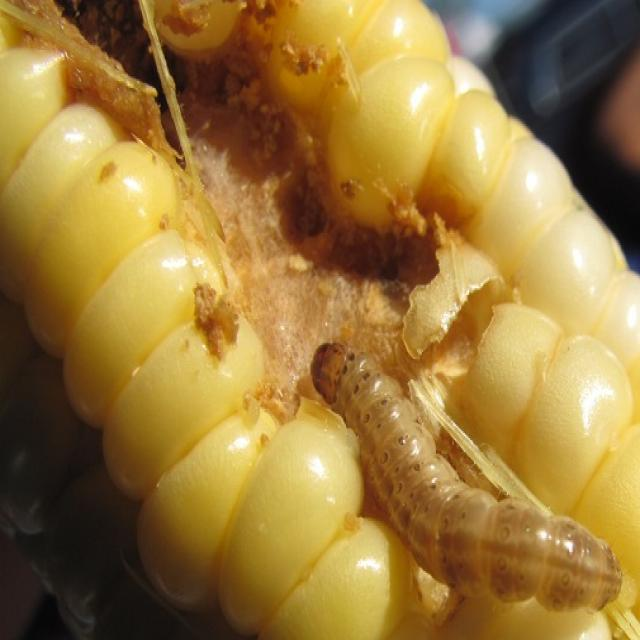cornborer-Larva-: (307, 331, 624, 616)
